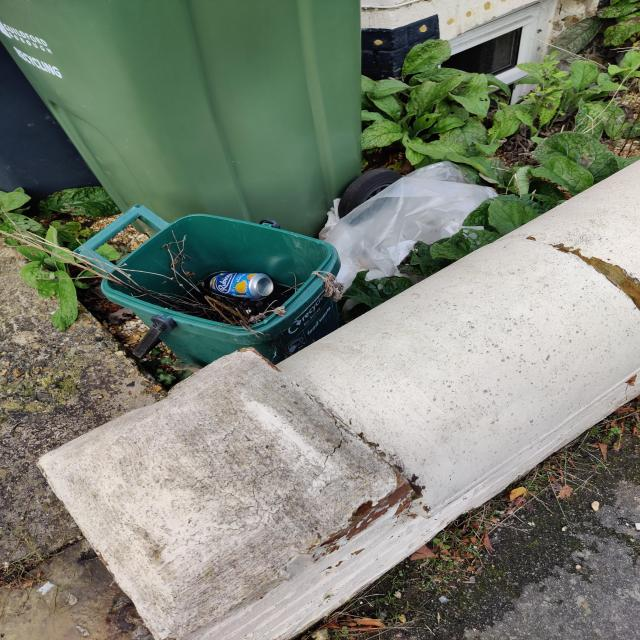litter: (317, 161, 499, 297), (209, 272, 274, 300)
